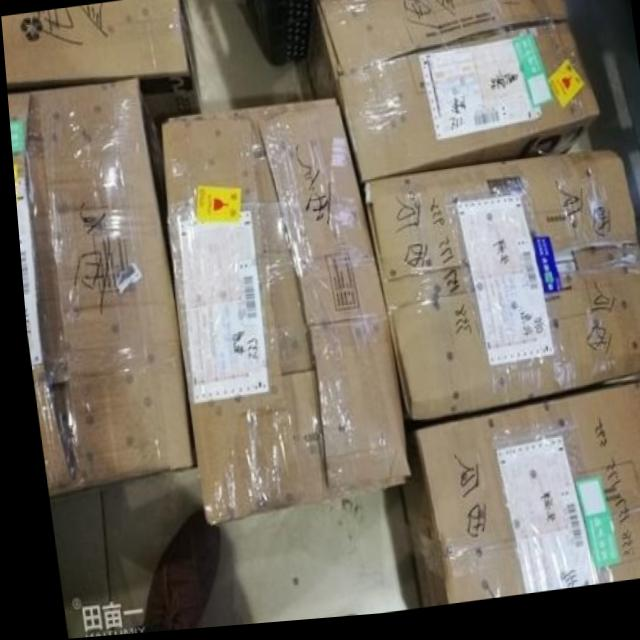box: (160, 103, 403, 530), (6, 81, 189, 507), (356, 161, 640, 431), (305, 0, 600, 190), (393, 390, 640, 612), (1, 0, 201, 120)
